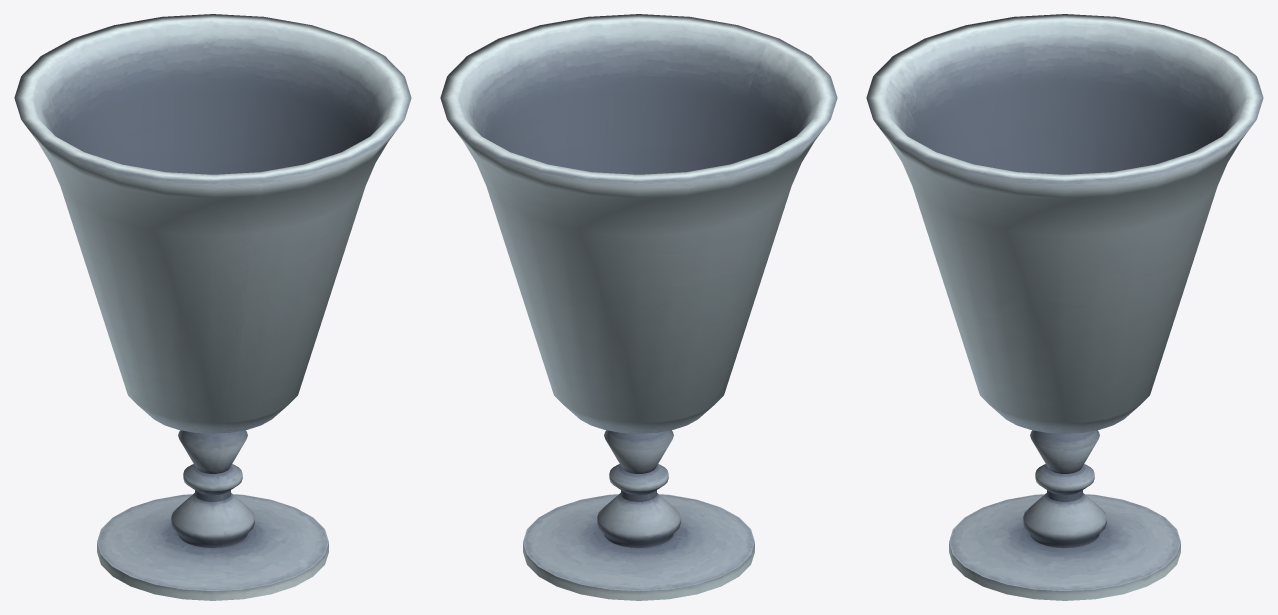
File: Lv1_Copa1.fbx
3 renders of one model, left to right at view 1: azimuth 30°, elevation 25°; view 2: azimuth 150°, elevation 25°; view 3: azimuth 270°, elevation 25°, orthographic.
Visible parts, largest first — view 1: Lv1_Copa_1; view 2: Lv1_Copa_1; view 3: Lv1_Copa_1.
Boxes of the visible parts, x1=… form: Lv1_Copa_1: x1=14, y1=14, x2=411, y2=600; Lv1_Copa_1: x1=440, y1=14, x2=837, y2=600; Lv1_Copa_1: x1=866, y1=14, x2=1263, y2=600.
Bounding box in the file's own units: 18 × 22.7 × 18.
1 material, 1 textured.
